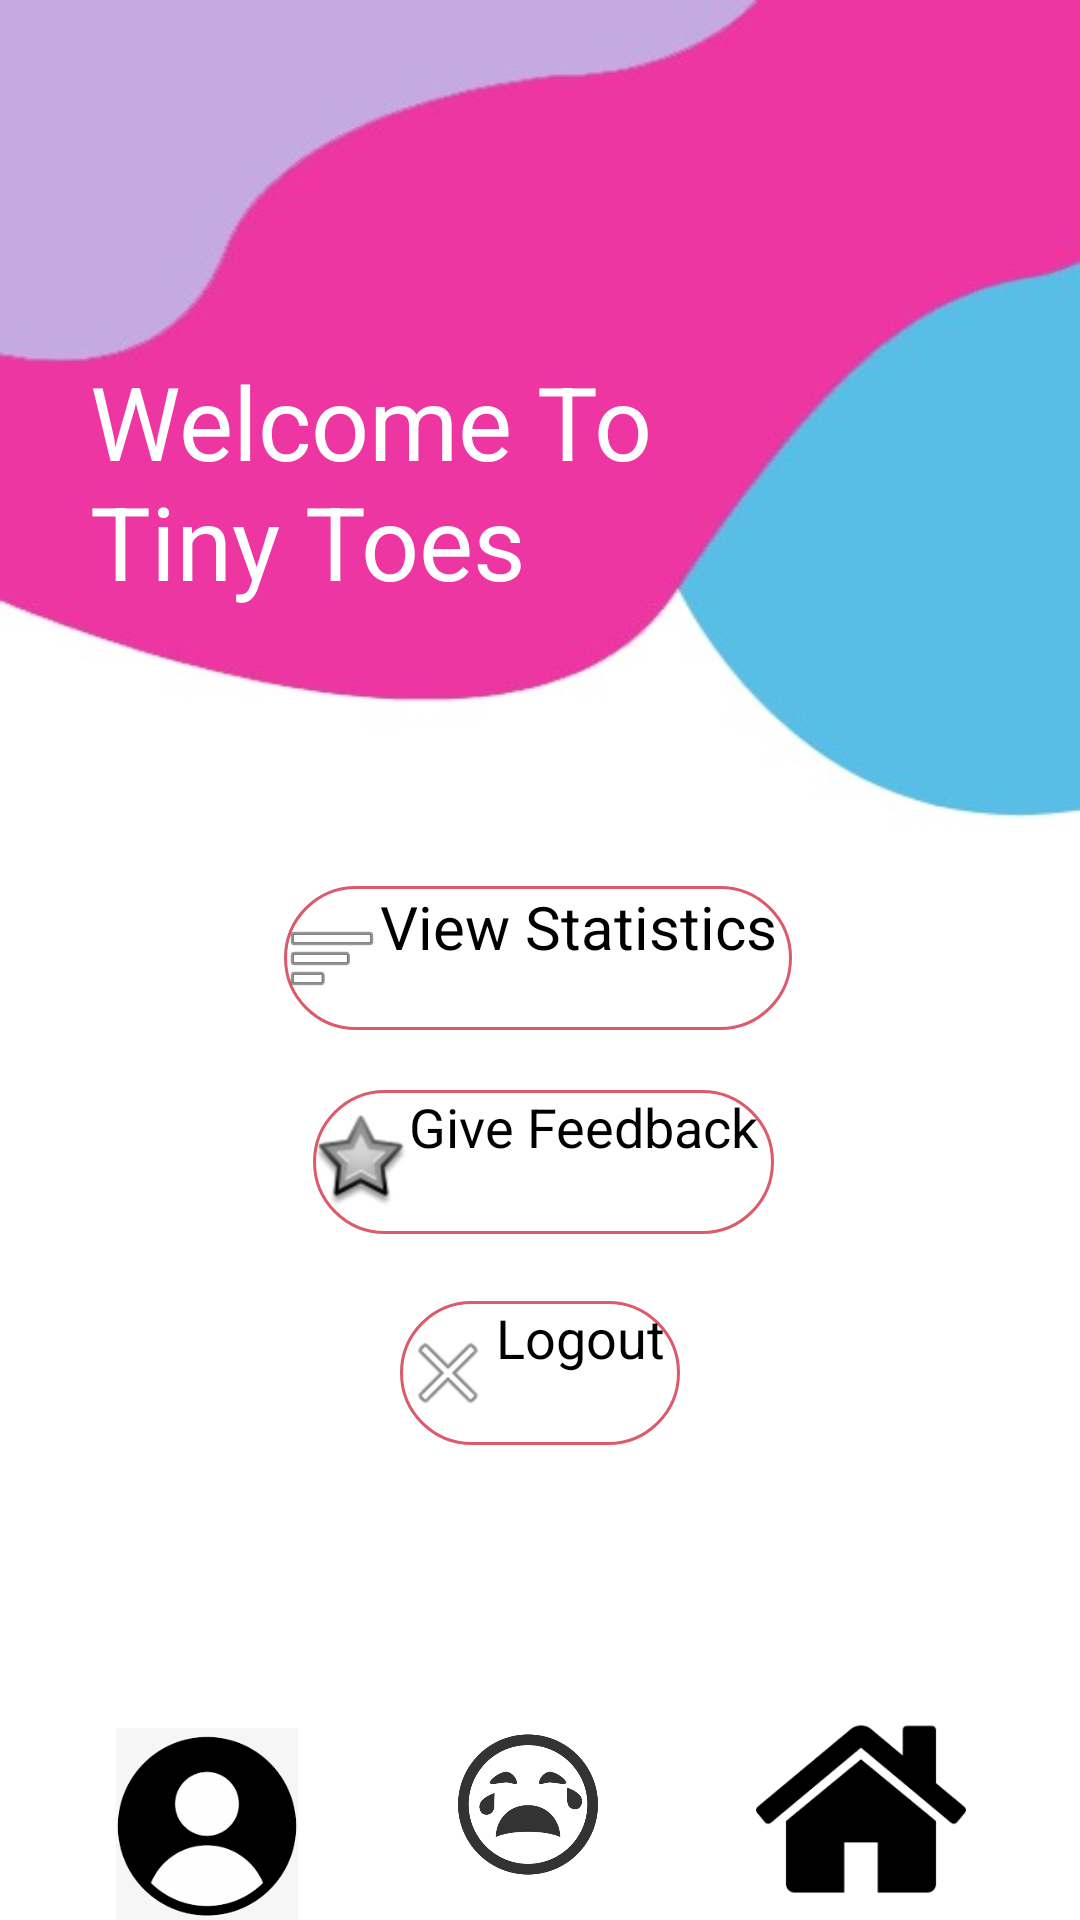

Named icons in this screenshot (1080w x 1920h) and their bounding boxes, bbox=(x1, y1, x2, y2):
cryicon: bbox=(458, 1734, 598, 1875)
